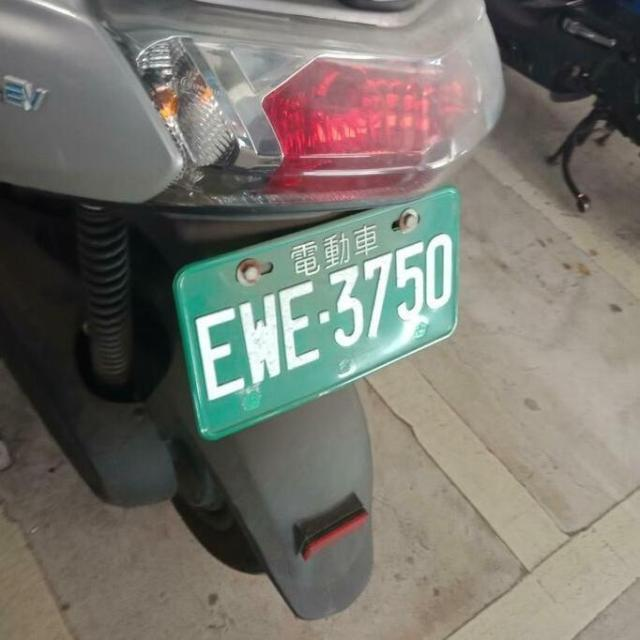GW: (161, 179, 484, 453)
